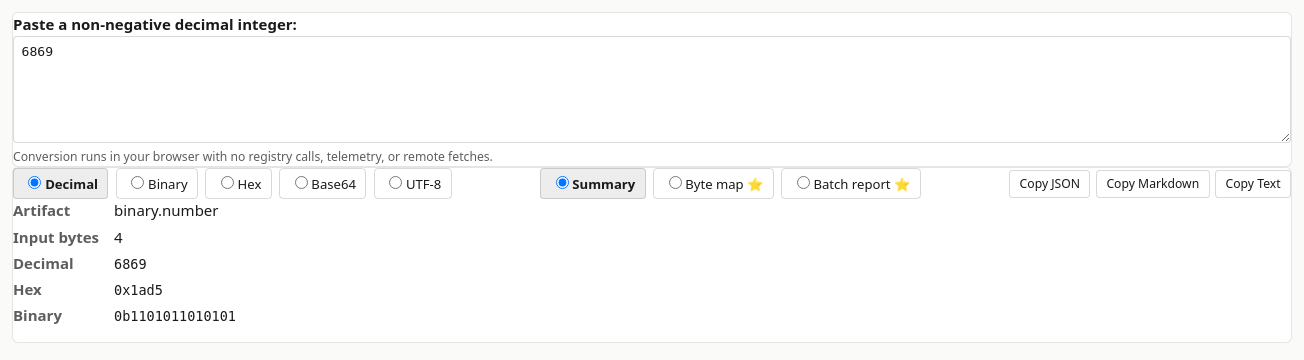
Scenario: BinaryApp › switches modes through the radio control
Click the radio button with test id "binary-mode-hex".
click(227, 182)  # box [221,176,234,189]
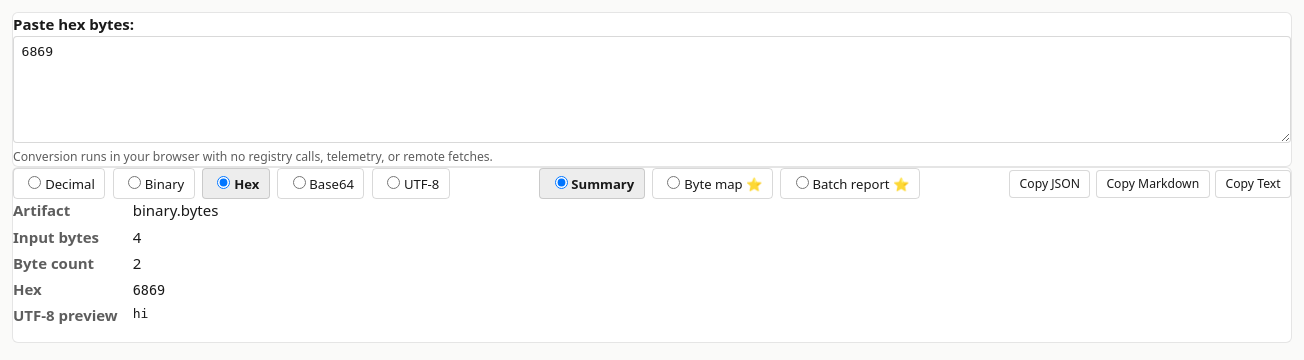
Check: the element with test id "binary-output" shows "binary.bytes", box [133,200,218,220]
Check: the element with test id "binary-output" shows "hi", box [133,306,148,322]
